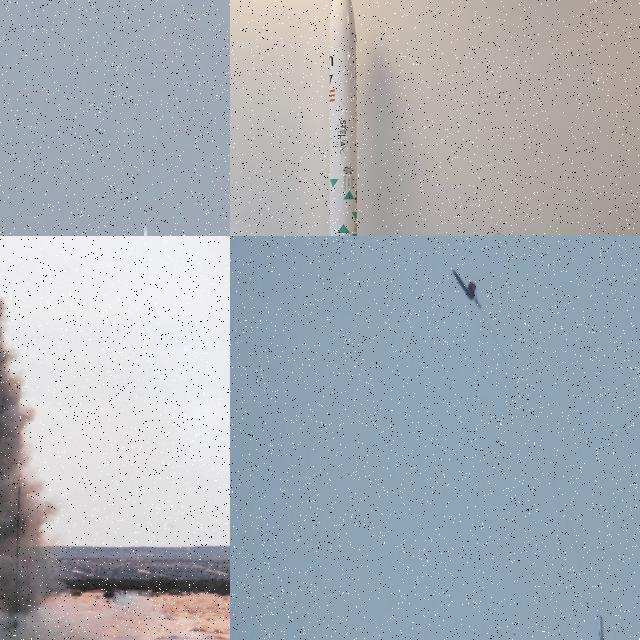Rocket: (329, 0, 358, 236), (598, 612, 611, 640), (143, 225, 149, 236)
